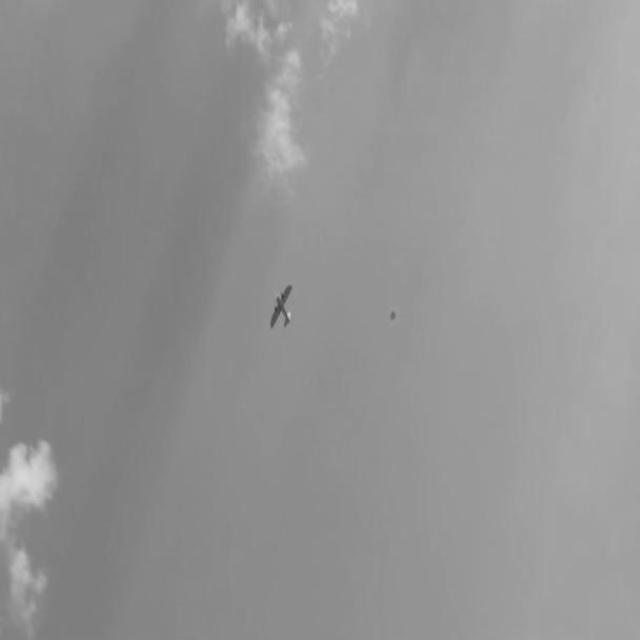iha: (268, 284, 296, 329)
